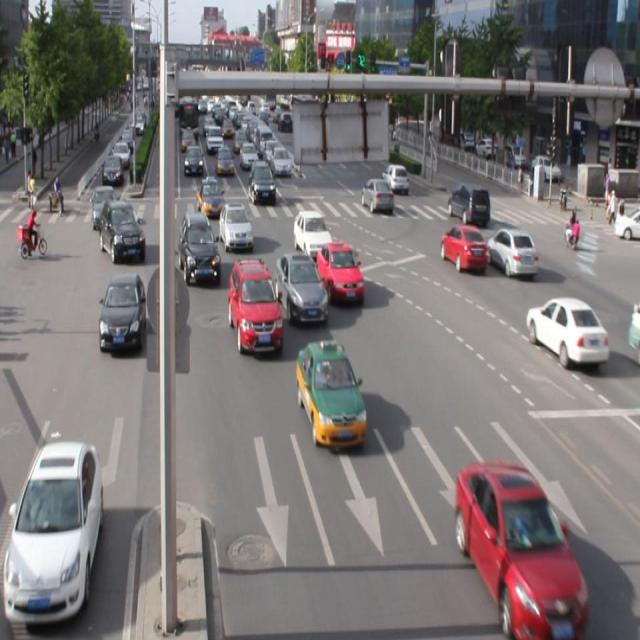car: (454, 462, 587, 631), (1, 440, 103, 616), (296, 337, 367, 449), (525, 294, 608, 364), (228, 257, 283, 356), (99, 271, 147, 354), (276, 251, 329, 324), (314, 240, 364, 306), (179, 211, 221, 283), (101, 200, 145, 263), (485, 226, 537, 276), (439, 223, 488, 274), (292, 208, 332, 259), (218, 200, 254, 250)
